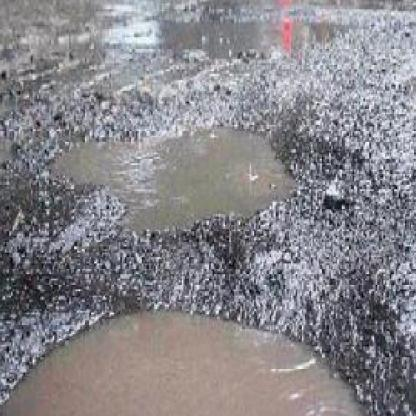pothole: (0, 273, 415, 416), (41, 97, 324, 238)
